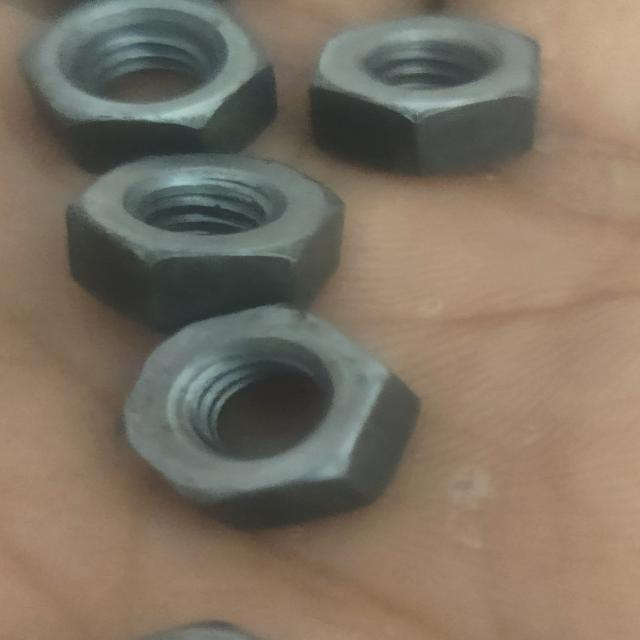disinfected nut: (123, 305, 420, 528), (67, 152, 343, 332), (20, 0, 277, 172), (310, 15, 540, 175)
